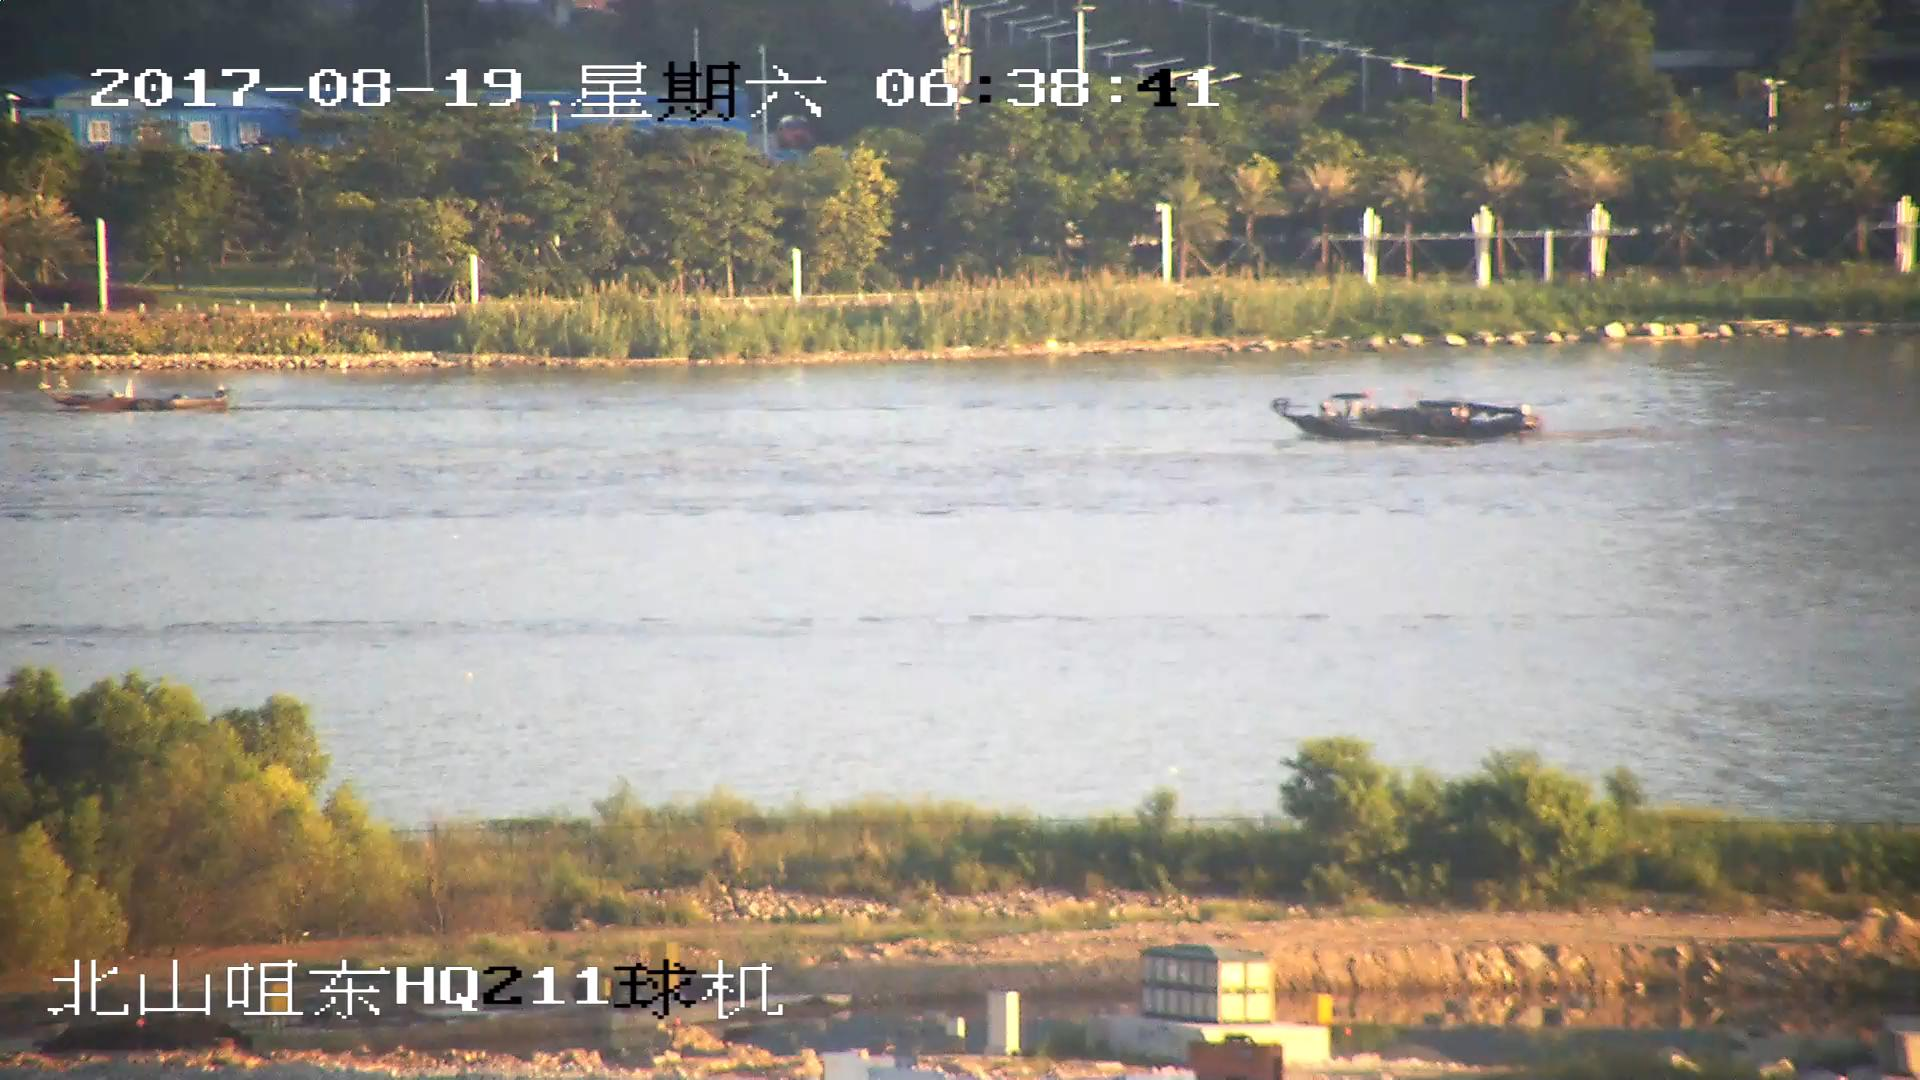fishing boat: (1276, 389, 1541, 441), (43, 377, 229, 416)
